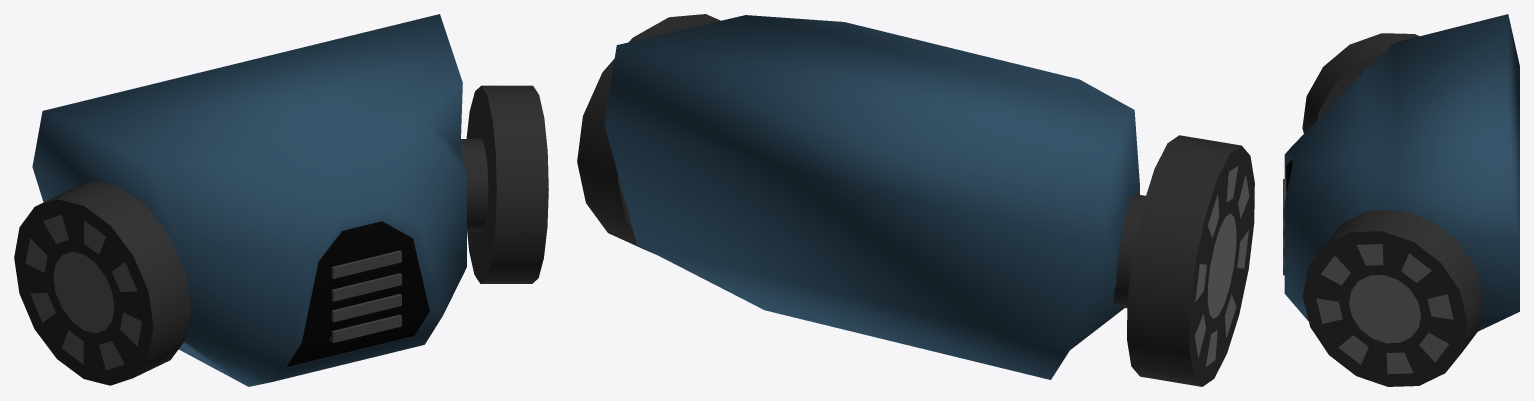
Rendered from halvanic_face_model_3.gltf.
The picture shows the model from 3 angles, left to right: view 1: azimuth 30°, elevation 25°; view 2: azimuth 150°, elevation 25°; view 3: azimuth 270°, elevation 25°; orthographic projection. The views are drawn at different scales.
Visible parts, largest first — view 1: Куб.001, Цилиндр, Цилиндр.001, Куб.002; view 2: Куб.001, Цилиндр, Цилиндр.001; view 3: Куб.001, Цилиндр.001, Цилиндр, Куб.002.
Part boxes in pixels (box(x1,y1,x2,y2)): Куб.001: box(32, 14, 466, 386); Цилиндр: box(14, 181, 190, 385); Цилиндр.001: box(460, 85, 548, 283); Куб.002: box(329, 250, 401, 342); Куб.001: box(604, 15, 1139, 379); Цилиндр: box(1113, 135, 1254, 386); Цилиндр.001: box(577, 14, 720, 254); Куб.001: box(1284, 14, 1519, 331); Цилиндр.001: box(1303, 210, 1484, 386); Цилиндр: box(1302, 33, 1419, 133); Куб.002: box(1283, 179, 1286, 275).
Size of the model in its own units: 20.37 by 9.59 by 9.37.
